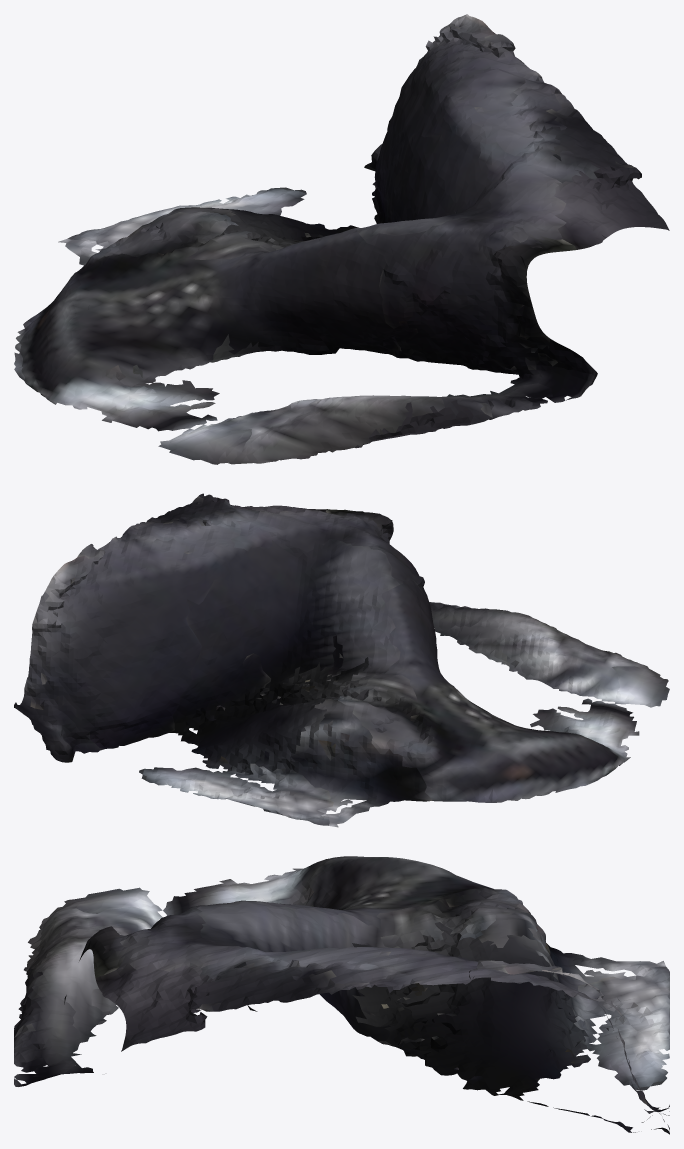
3 views of the same model, one above another, from view 1: azimuth 30°, elevation 25°; view 2: azimuth 150°, elevation 25°; view 3: azimuth 270°, elevation 25° (orthographic). The views are drawn at different scales.
Size of the model in its own units: 0.6285 by 0.1928 by 0.5932.
1 material, 1 textured.
